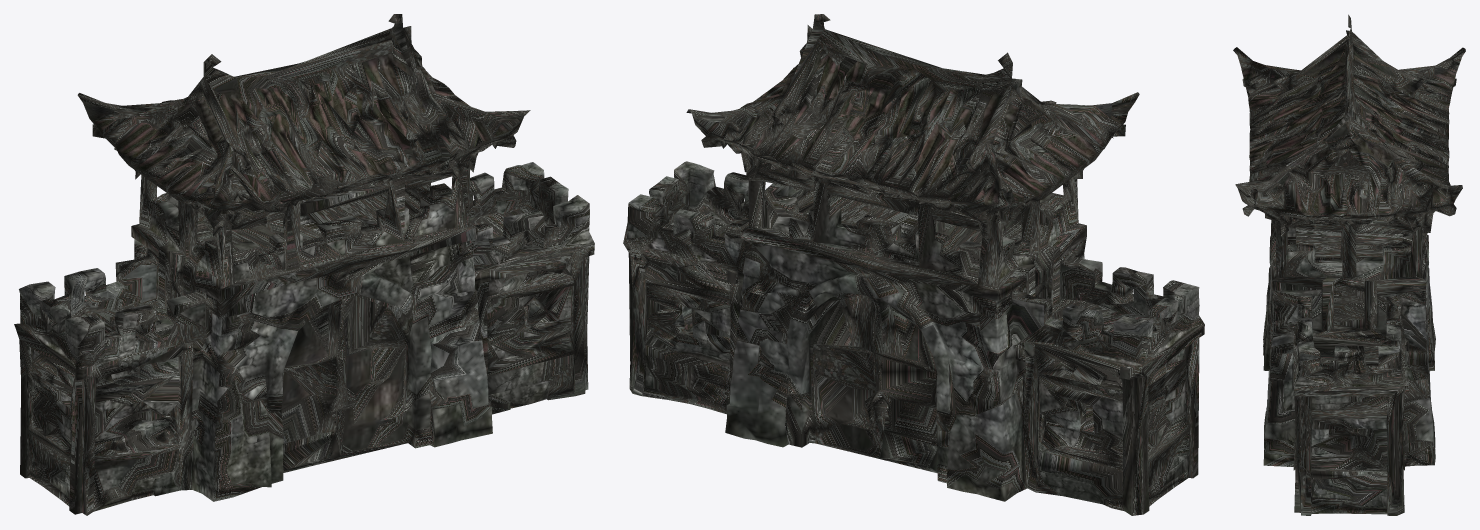
The model's file is calodangate.lod1.glb.
3 renders of one model, left to right at view 1: azimuth 30°, elevation 25°; view 2: azimuth 150°, elevation 25°; view 3: azimuth 270°, elevation 25°, orthographic. The views are drawn at different scales.
Visible parts, largest first — view 1: calodangate-centred; view 2: calodangate-centred; view 3: calodangate-centred.
Boxes of the visible parts, bbox=[...] form: calodangate-centred: bbox=[14, 14, 594, 515]; calodangate-centred: bbox=[623, 14, 1204, 515]; calodangate-centred: bbox=[1233, 14, 1465, 515].
Size of the model in its own units: 31.95 by 23.63 by 14.16.
Materials: 1 (1 with a texture image).
